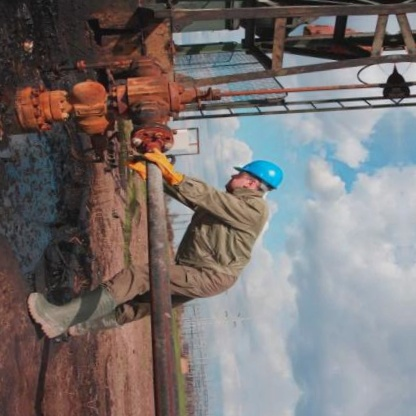blue: (229, 151, 291, 197)
